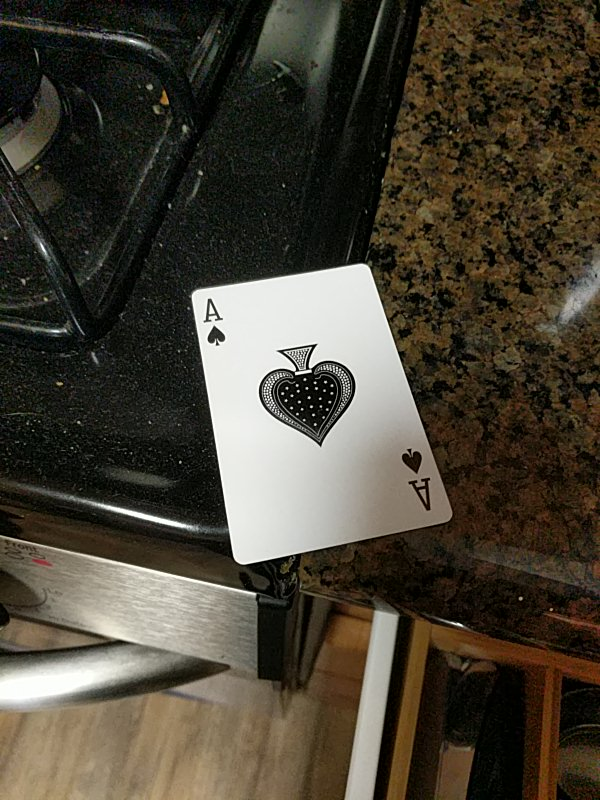Spades: (190, 260, 453, 570)
